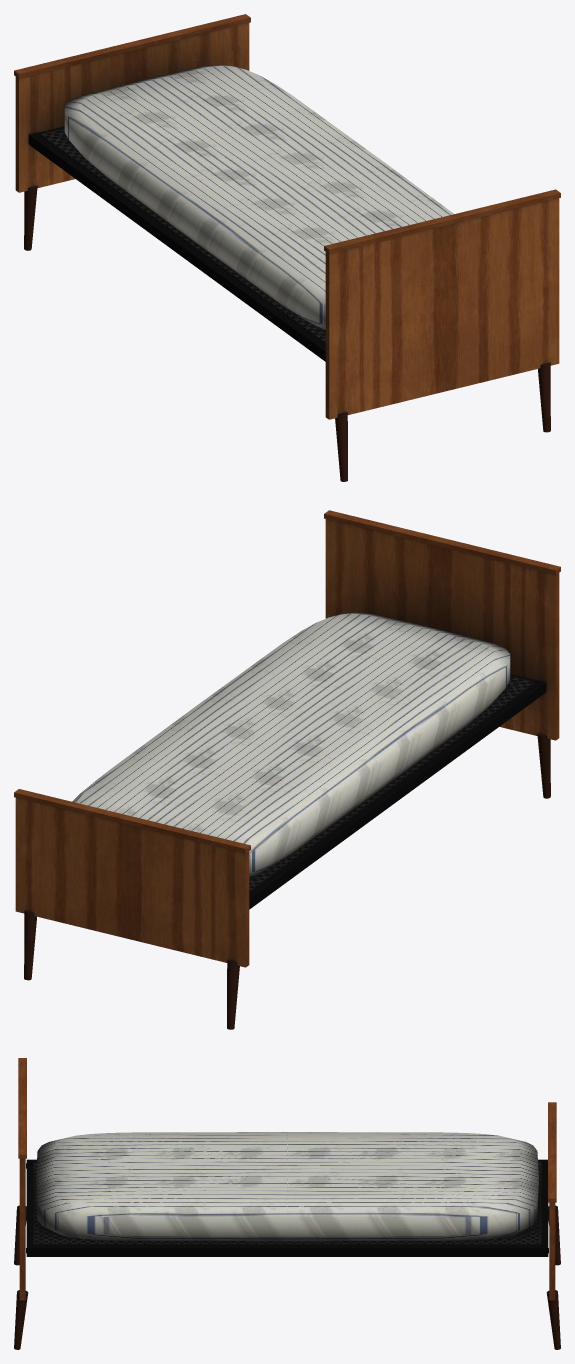
File: bed_pine_metal_web.glb
The picture shows the model from 3 angles, top to bottom: view 1: azimuth 30°, elevation 25°; view 2: azimuth 150°, elevation 25°; view 3: azimuth 270°, elevation 25°; orthographic projection. The views are drawn at different scales.
Parts seen in each view (by area): view 1: BedPineMetal_Mesh; view 2: BedPineMetal_Mesh; view 3: BedPineMetal_Mesh.
Boxes of the visible parts, left/top/right/bottom form: BedPineMetal_Mesh: left=14, top=14, right=560, bottom=481; BedPineMetal_Mesh: left=14, top=510, right=560, bottom=1029; BedPineMetal_Mesh: left=14, top=1058, right=560, bottom=1349.
Bounding box in the file's own units: 0.846 × 0.8171 × 2.02.
Materials: 1 (1 with a texture image).
